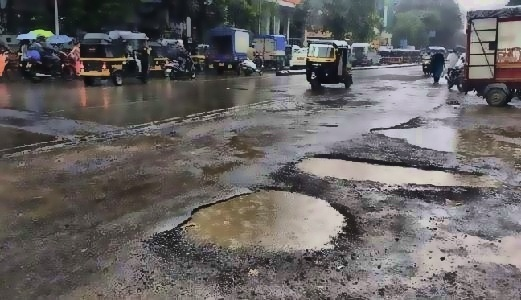pothole: (171, 183, 355, 254), (292, 152, 485, 188), (368, 123, 520, 160)
